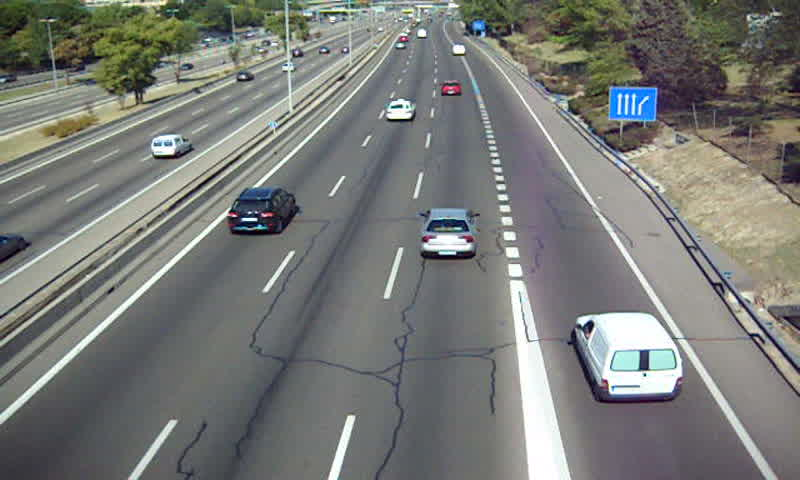car: (228, 188, 295, 234), (421, 208, 477, 257), (385, 98, 415, 121), (442, 81, 462, 97)
van: (573, 313, 684, 403)
